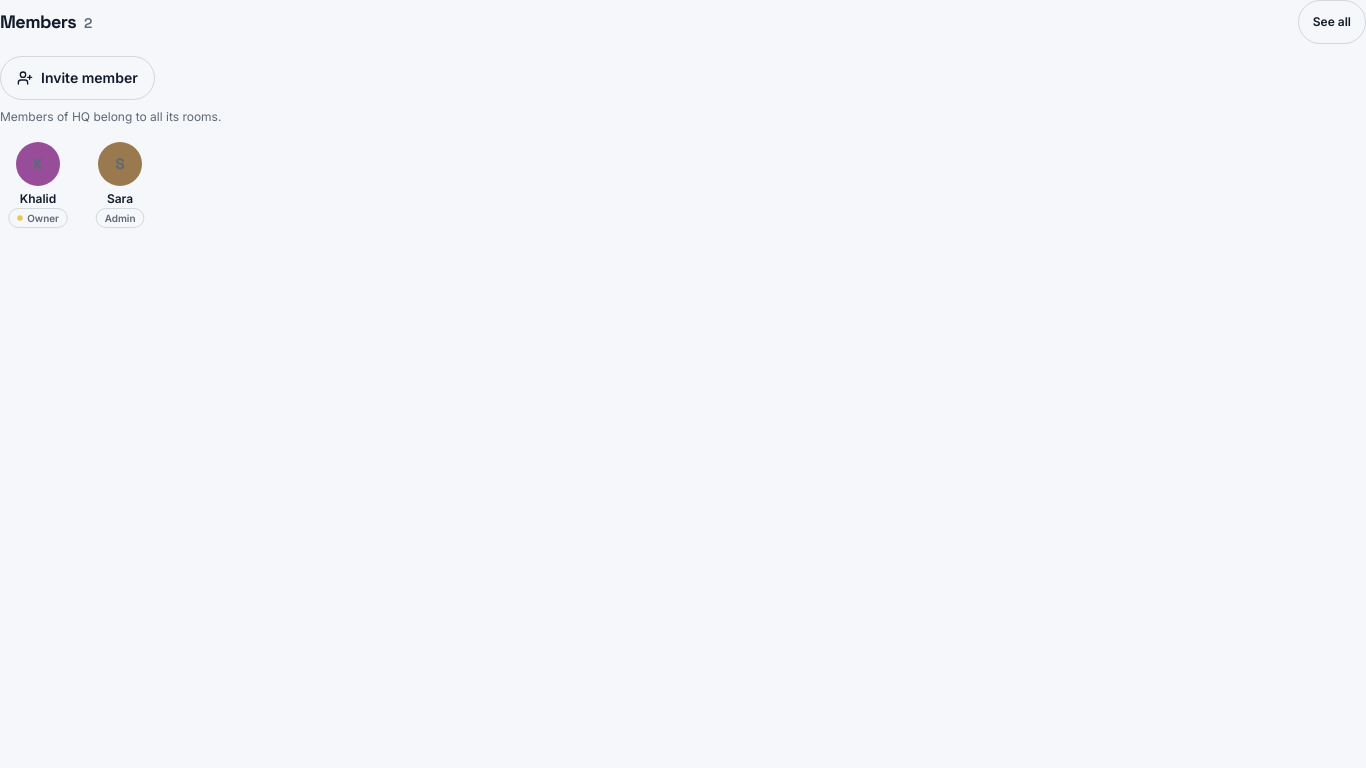
Test case: shows an admin their own card the same way, with their role and no Manage membership
Click the button with aria-label "Sara, admin".
click(120, 186)  # box [82,138,158,233]
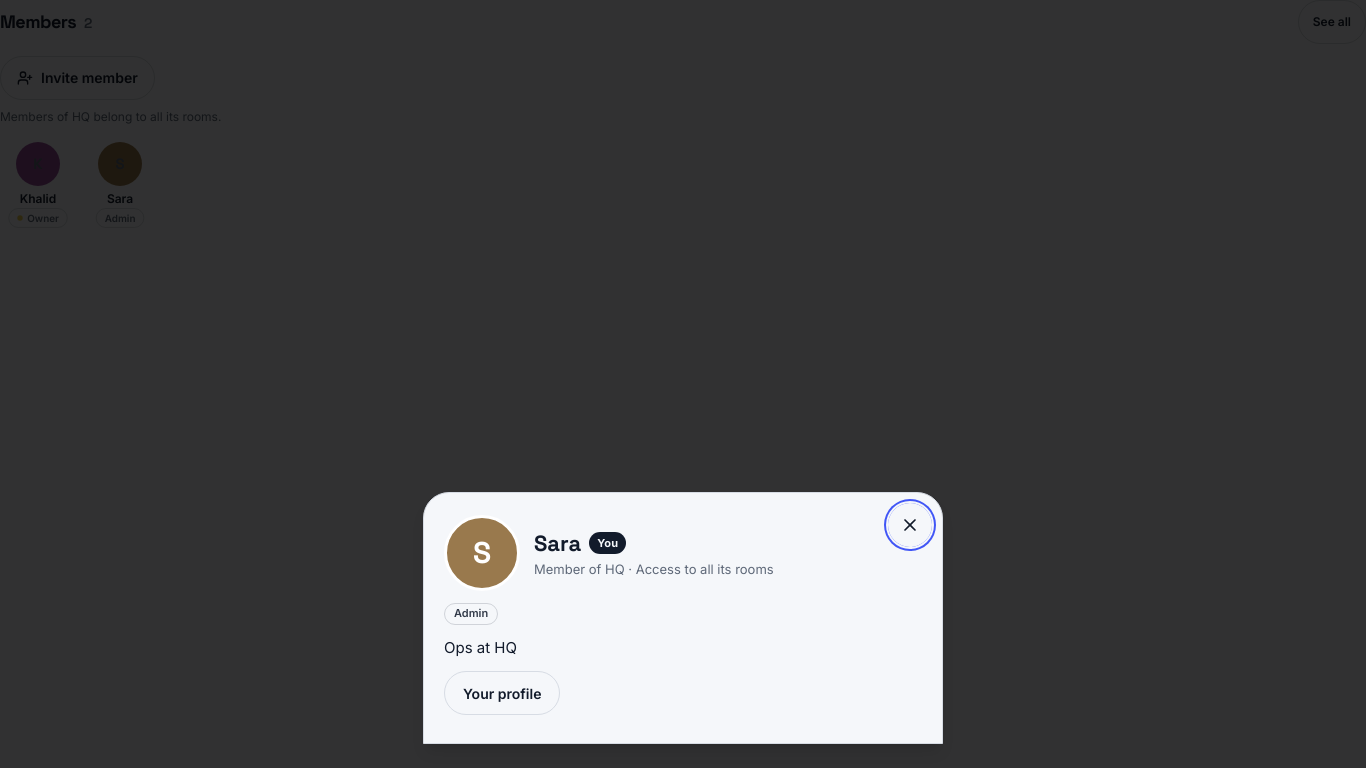
Now the text "You" is shown, box [589,532,626,554]
Now the text "Member of HQ · Access to all its rooms" is shown, box [534,560,774,579]
Now the text "Admin" is shown, box [444,602,498,624]
